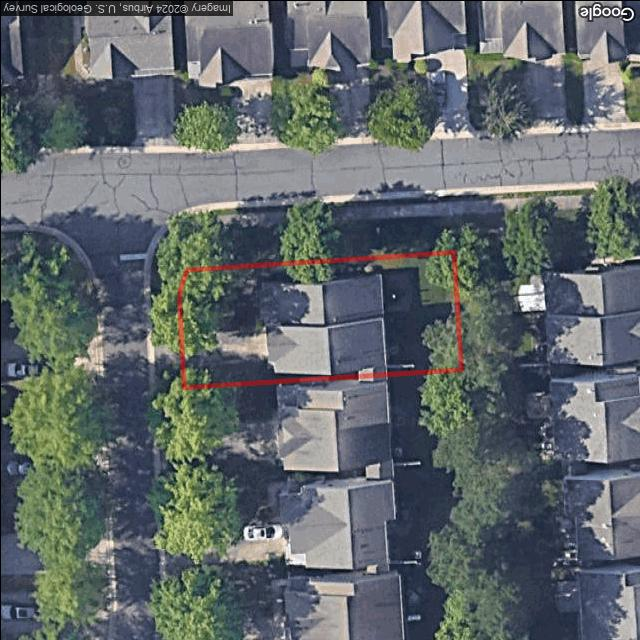Driveway: (180, 332, 266, 366)
Extra-Driveway: (145, 334, 181, 372)
Extra-Lawn: (150, 215, 453, 335), (186, 195, 452, 216), (148, 367, 182, 388)
Extra-Sidewalk: (165, 201, 455, 232)
House: (261, 272, 385, 374)
Lawn: (179, 252, 461, 388)
Other: (378, 268, 413, 310)
